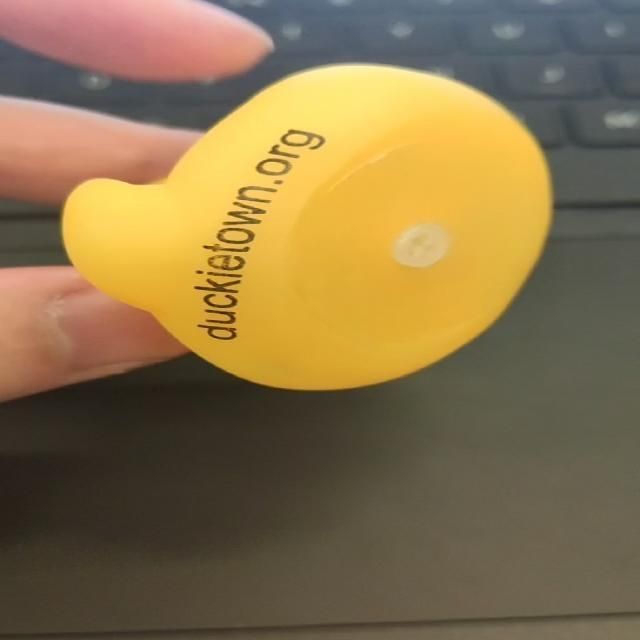rubber-duck: (61, 64, 550, 388)
